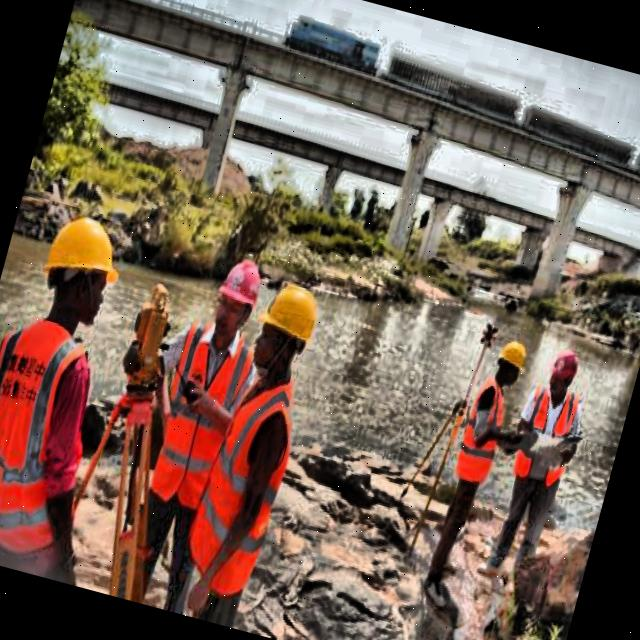helmet: (20, 198, 136, 342), (244, 274, 326, 382), (203, 252, 272, 348), (537, 343, 582, 410), (487, 336, 533, 394)
